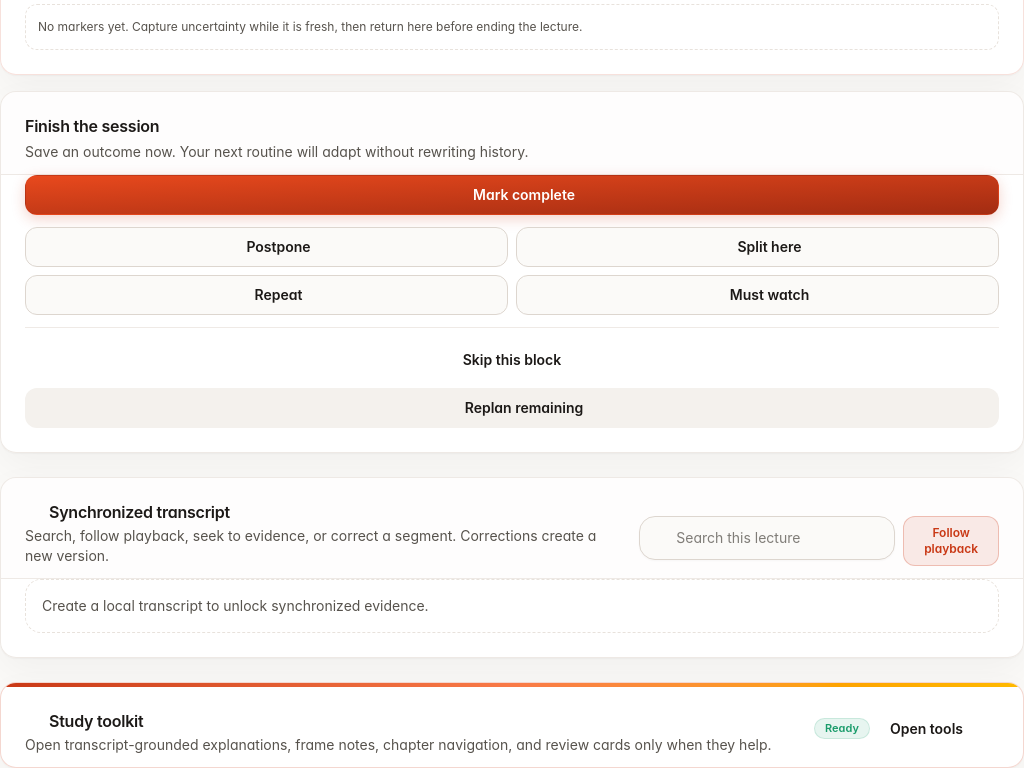
PlayerRoute › keeps optional study tools collapsed until requested
The image size is (1024, 768).
(page scrolled)
Check: the button "Analyze this lecture" is not shown
What coordinates should you click on to do the following:
click the button "Open tools"
I would click on:
 (938, 729)
Its box is top-left (878, 711), bottom-right (999, 747).
(page scrolled)
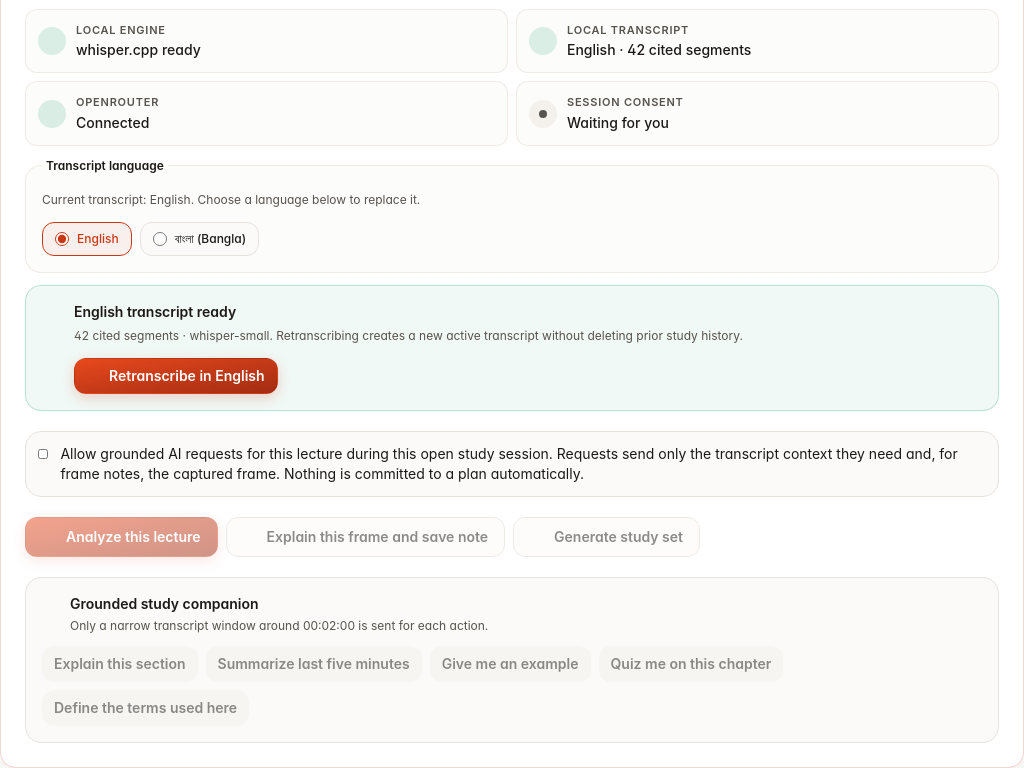
Check: the button "Analyze this lecture" is shown, box top-left (25, 517), bottom-right (218, 557)
